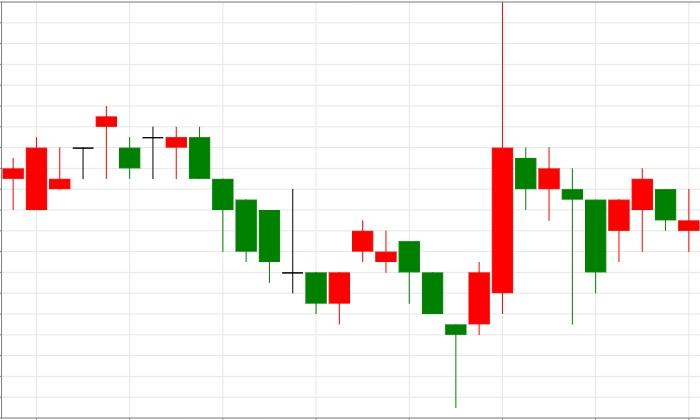morning_star_rise: (352, 220, 491, 408)
